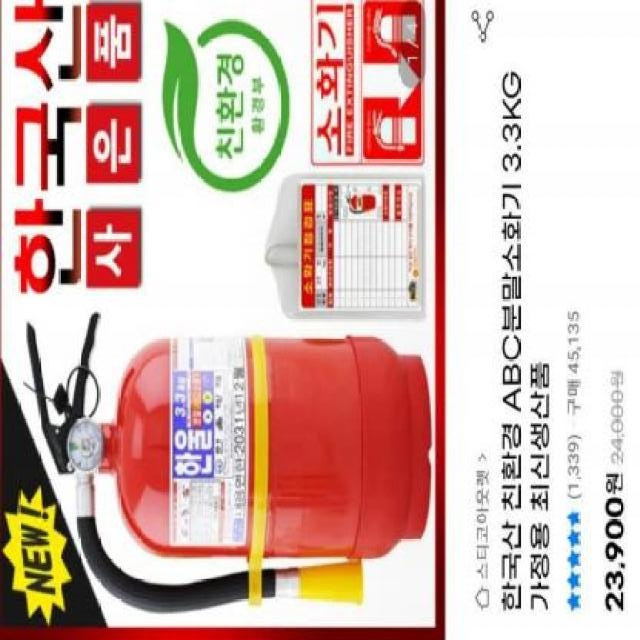fire extinguisher: (26, 312, 432, 616)
